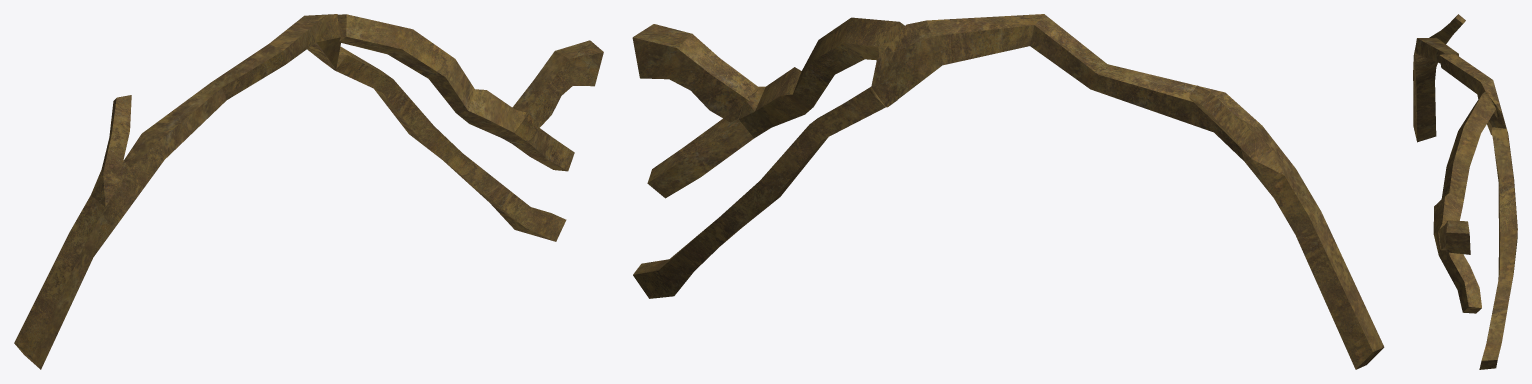
Rendered from mg_12__arch_1.fbx.
3 renders of one model, left to right at view 1: azimuth 30°, elevation 25°; view 2: azimuth 150°, elevation 25°; view 3: azimuth 270°, elevation 25°, orthographic. The views are drawn at different scales.
Visible parts, largest first — view 1: mg_12__arch_1; view 2: mg_12__arch_1; view 3: mg_12__arch_1.
Boxes of the visible parts, x1,y1,x2,y2 form: mg_12__arch_1: [14, 14, 603, 369]; mg_12__arch_1: [632, 14, 1384, 369]; mg_12__arch_1: [1413, 14, 1517, 369].
Size of the model in its own units: 249 by 113 by 51.51.
